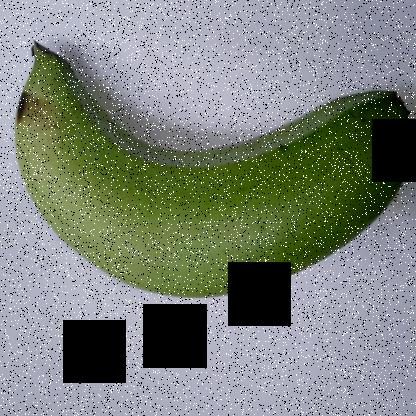freshunripe: (6, 14, 415, 326)
